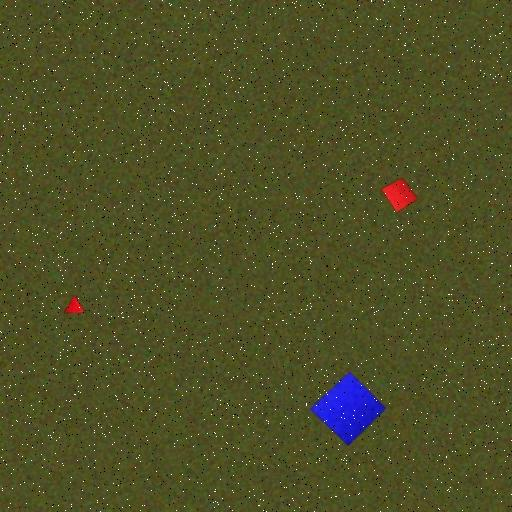BLUE_SQUARE: (310, 372, 386, 446)
RED_SQUARE: (381, 176, 419, 214)
